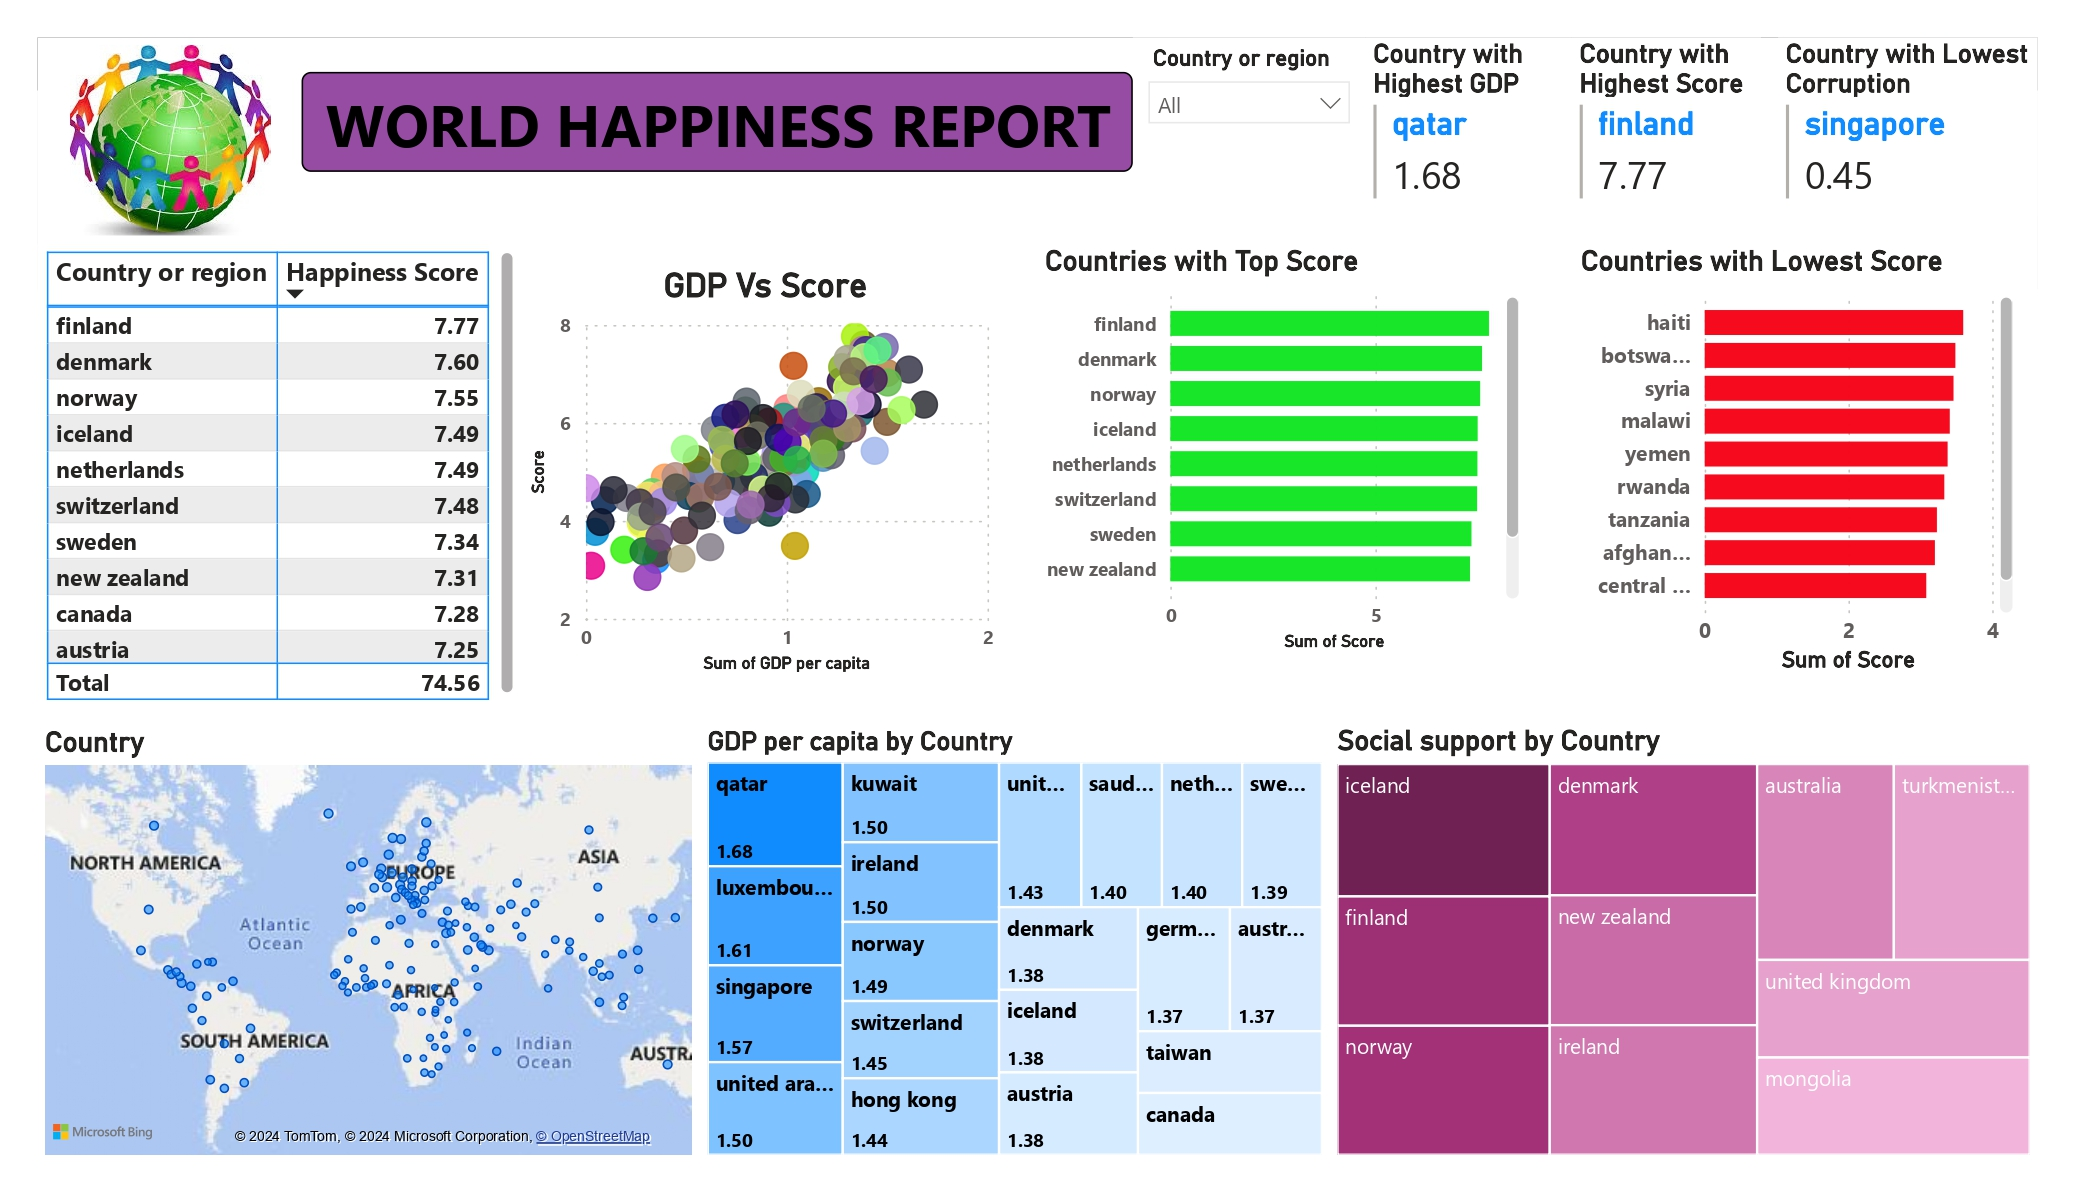

What the dashboard file says about the page in this screenshot:
{"tool":"powerbi","page":{"name":"Page 1","canvas":[1280,720],"ordinal":0},"visuals":[{"type":"image","box":[36.1,12.5,127.8,129.2],"z":0},{"type":"textbox","box":[195.8,40.3,452.8,56.9],"z":1000},{"type":"actionButton","box":[0,0,100,40],"z":2000},{"type":"tableEx","fields":{"Values":["Happiness Score Data.Country or region","Sum(Happiness Score Data.Score)"]},"box":[13.7,145.5,286.8,312.9],"z":3000},{"type":"scatterChart","title":"GDP Vs Score","fields":{"Y":["Sum(Happiness Score Data.Score)"],"X":["Sum(Happiness Score Data.GDP per capita)"],"Series":["Happiness Score Data.Country or region"]},"box":[330.6,158,294.4,292],"z":4000},{"type":"barChart","title":"Countries with top Score","fields":{"Category":["Happiness Score Data.Country or region"],"Y":["Sum(Happiness Score Data.Score)"]},"box":[649.1,158,294.4,292],"z":5000},{"type":"barChart","title":"Countries with Lowest Score","fields":{"Y":["Sum(Happiness Score Data.Score)"],"Category":["Happiness Score Data.Country or region"]},"box":[956.7,158,294.4,283.5],"z":6000},{"type":"treemap","title":"GDP per Capita by country","fields":{"Values":["Sum(Happiness Score Data.GDP per capita)"],"Group":["Happiness Score Data.Country or region"]},"box":[452.8,462.5,390.3,256.9],"z":7000},{"type":"treemap","title":" Social support by Country","fields":{"Values":["Sum(Happiness Score Data.Social support)"],"Group":["Happiness Score Data.Country or region"]},"box":[841.7,462.5,419.4,256.9],"z":8000},{"type":"slicer","fields":{"Values":["Happiness Score Data.Country or region","Happiness Score Data.GDP per capita"]},"box":[666.7,19.4,155.6,97.2],"z":9000},{"type":"multiRowCard","title":"Country with Highest GDP","fields":{"Values":["Sum(Happiness Score Data.GDP per capita)","Happiness Score Data.Country or region"]},"box":[822,15.1,150.9,126.2],"z":10000},{"type":"multiRowCard","title":"Country with highest Score","fields":{"Values":["Happiness Score Data.Country or region","Sum(Happiness Score Data.Score)"]},"box":[956.4,15.1,157.8,129],"z":11000},{"type":"multiRowCard","title":"Country with lowest Corruption","fields":{"Values":["Happiness Score Data.Country or region","Sum(Happiness Score Data.Perceptions of corruption)"]},"box":[1114.2,19.2,166,126.2],"z":12000},{"type":"map","fields":{"Category":["Happiness Score Data.Country or region"]},"box":[14.5,462.1,407.8,258.2],"z":13000}]}

Visuals, with their boxes in screenshot pixels (x1, y1, x2, y2):
image: BBox(94, 57, 294, 259)
textbox: BBox(343, 100, 1051, 189)
actionButton: BBox(38, 38, 194, 100)
tableEx - Happiness Score Data.Country or region x Sum(Happiness Score Data.Score): BBox(59, 265, 507, 754)
"GDP Vs Score" scatterChart: BBox(554, 284, 1014, 741)
"Countries with top Score" barChart: BBox(1052, 284, 1512, 741)
"Countries with Lowest Score" barChart: BBox(1532, 284, 1992, 727)
"GDP per Capita by country" treemap: BBox(745, 760, 1355, 1162)
" Social support by Country" treemap: BBox(1353, 760, 2008, 1162)
slicer - Happiness Score Data.Country or region x Happiness Score Data.GDP per capita: BBox(1079, 68, 1322, 220)
"Country with Highest GDP" multiRowCard: BBox(1322, 61, 1558, 258)
"Country with highest Score" multiRowCard: BBox(1532, 61, 1778, 263)
"Country with lowest Corruption" multiRowCard: BBox(1778, 68, 2038, 265)
map - Happiness Score Data.Country or region: BBox(60, 760, 697, 1162)
